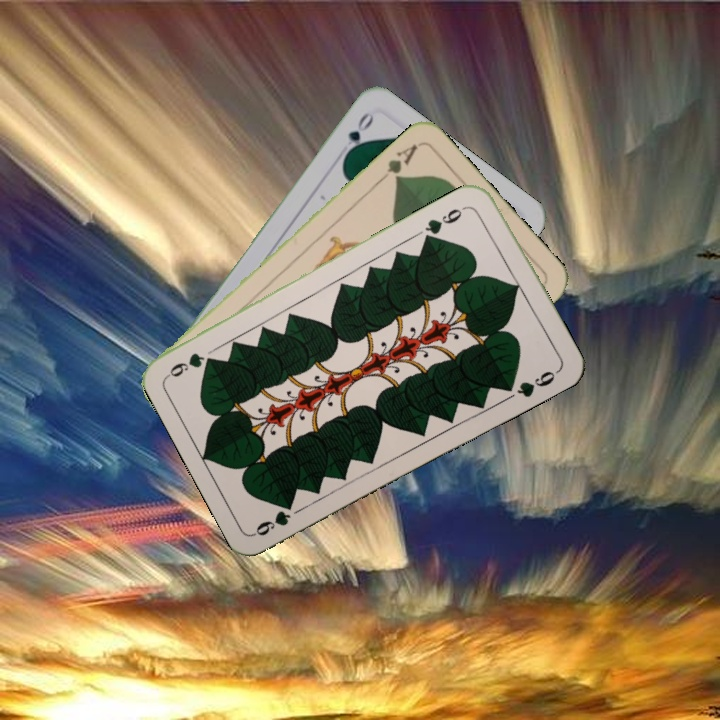G9: (420, 201, 472, 242), (251, 497, 297, 539)
GA: (374, 139, 421, 185)
GO: (340, 108, 377, 161)
